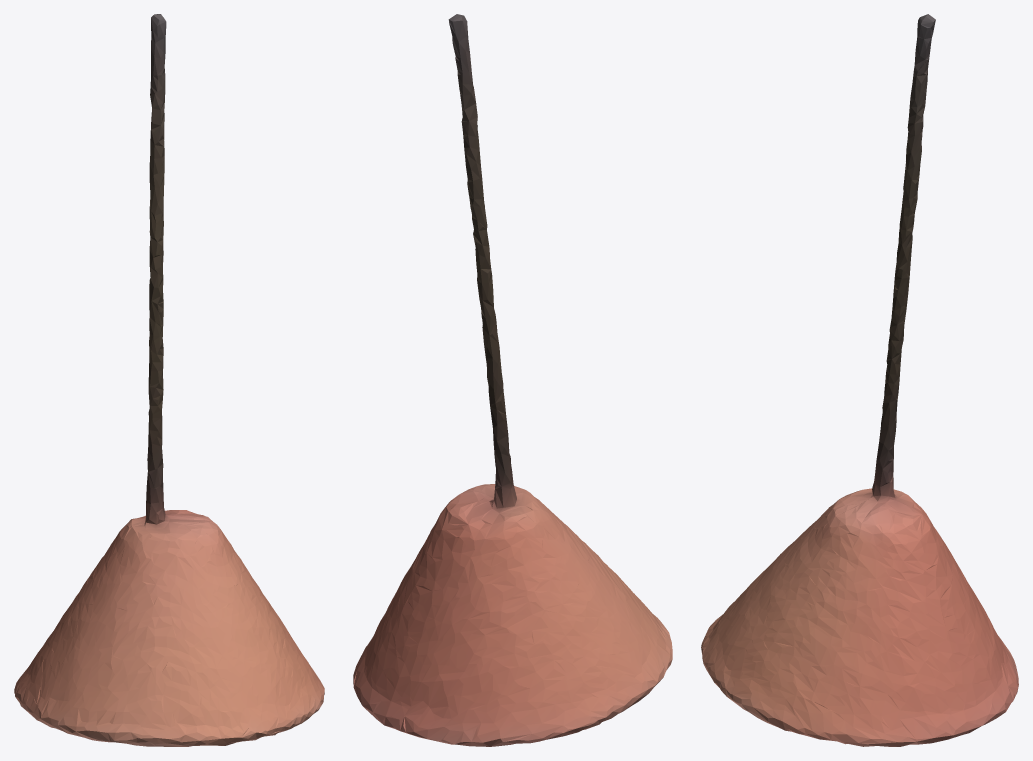
Rendered from cafe-0.glb.
The picture shows the model from 3 angles, left to right: view 1: azimuth 30°, elevation 25°; view 2: azimuth 150°, elevation 25°; view 3: azimuth 270°, elevation 25°; orthographic projection. The views are drawn at different scales.
Parts seen in each view (by area): view 1: geometry_0; view 2: geometry_0; view 3: geometry_0.
Part boxes in pixels (x1,y1,x2,y2): geometry_0: (14,14,324,746); geometry_0: (353,14,672,746); geometry_0: (701,14,1018,746).
Bounding box in the file's own units: 0.4311 × 1.03 × 0.4339.
